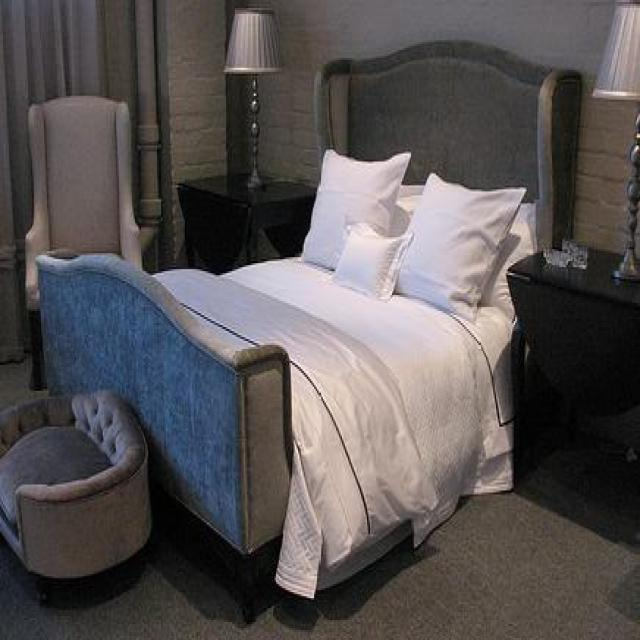bed: (36, 39, 584, 618)
